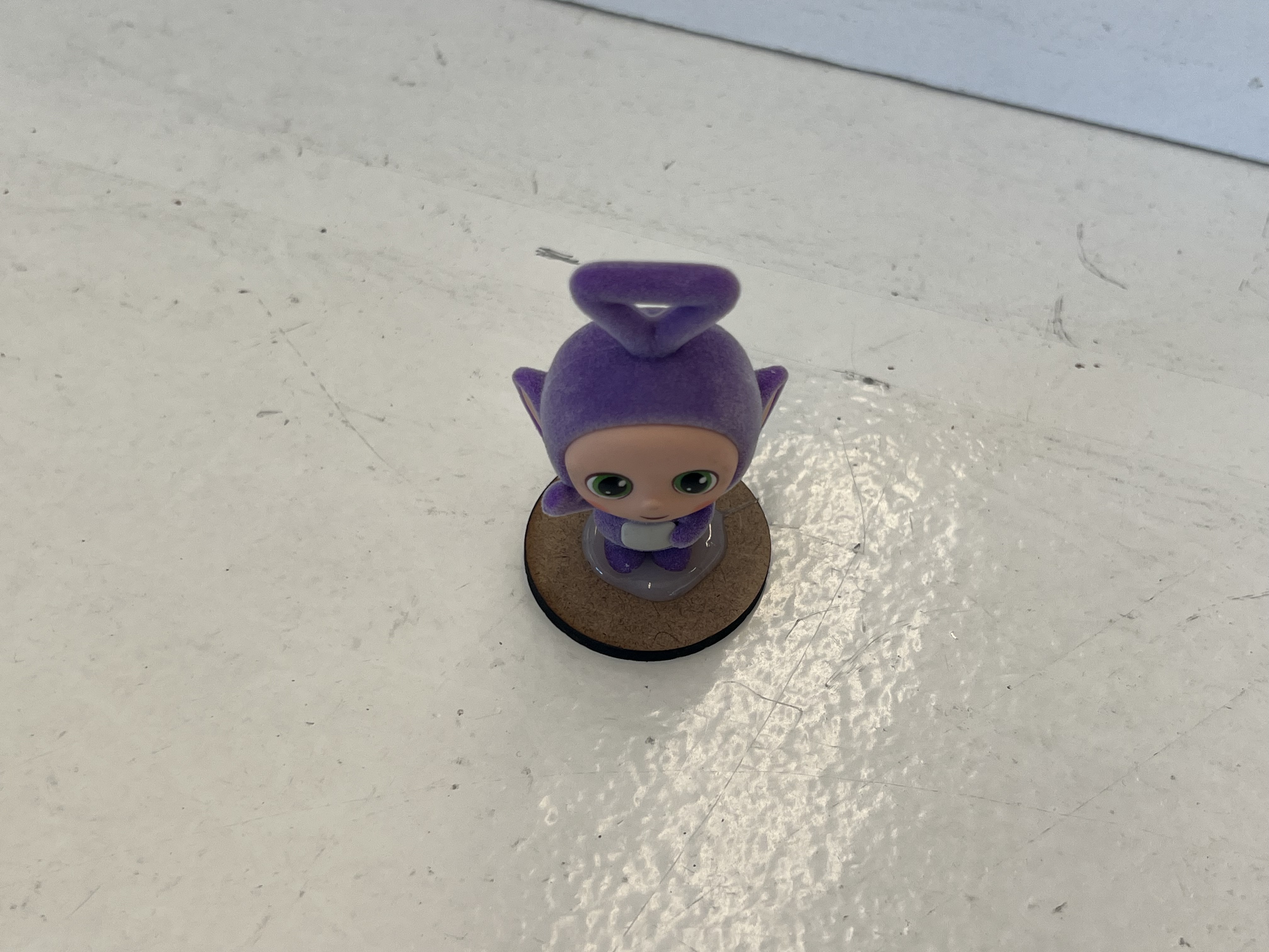teletubby: (513, 261, 787, 574)
